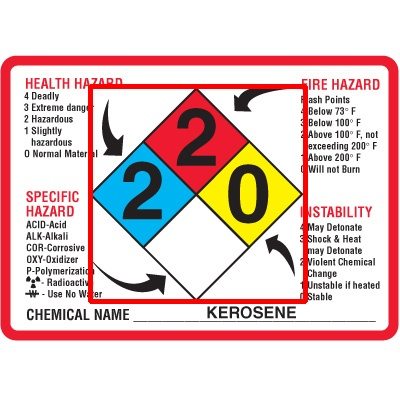nfpa: (90, 86, 305, 301)
